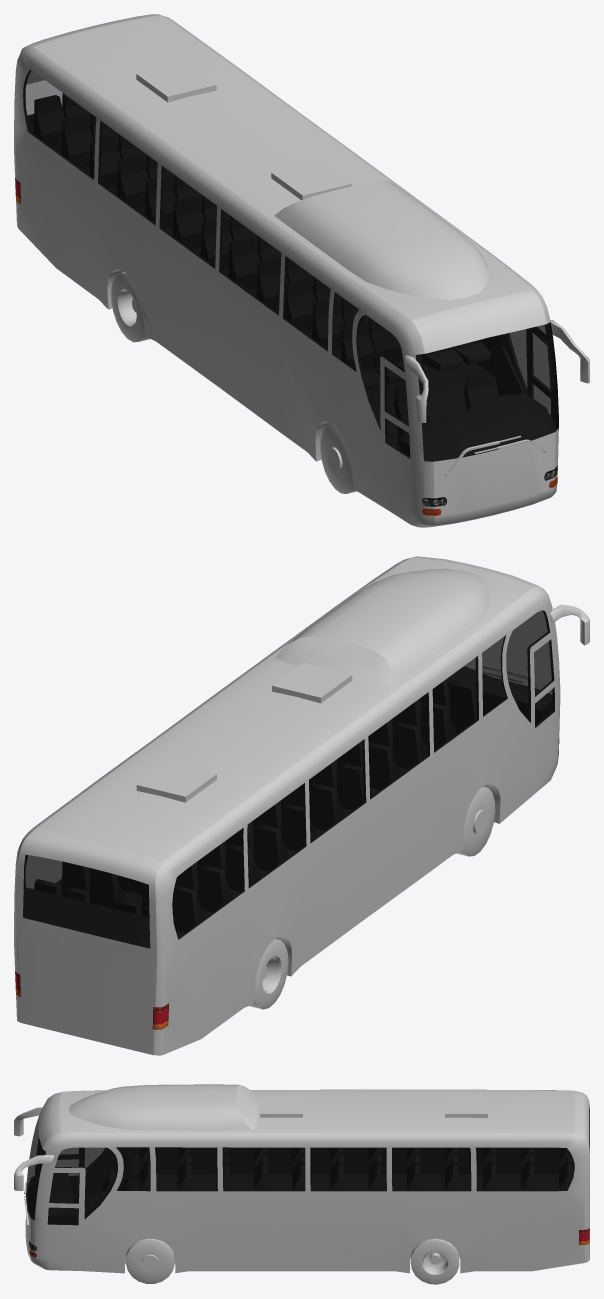
Rendered from Big_Bus.FBX.
3 renders of one model, top to bottom at view 1: azimuth 30°, elevation 25°; view 2: azimuth 150°, elevation 25°; view 3: azimuth 270°, elevation 25°, orthographic. The views are drawn at different scales.
Parts seen in each view (by area): view 1: Big_Bus_LOD0, Wheels_RR_LOD0, Wheels_FR_LOD0; view 2: Big_Bus_LOD0, Wheels_RR_LOD0, Wheels_FR_LOD0; view 3: Big_Bus_LOD0, Wheels_RL_LOD0, Wheels_FL_LOD0.
Boxes of the visible parts, <box> form: Big_Bus_LOD0: <box>14,14,589,527</box>; Wheels_RR_LOD0: <box>111,272,149,342</box>; Wheels_FR_LOD0: <box>320,424,356,493</box>; Big_Bus_LOD0: <box>14,556,589,1055</box>; Wheels_RR_LOD0: <box>249,939,288,1009</box>; Wheels_FR_LOD0: <box>456,786,495,856</box>; Big_Bus_LOD0: <box>14,1084,589,1273</box>; Wheels_RL_LOD0: <box>410,1238,459,1284</box>; Wheels_FL_LOD0: <box>126,1238,174,1283</box>.
Size of what is drawn, in the model's own units: 2.97 by 12.68 by 4.02.
